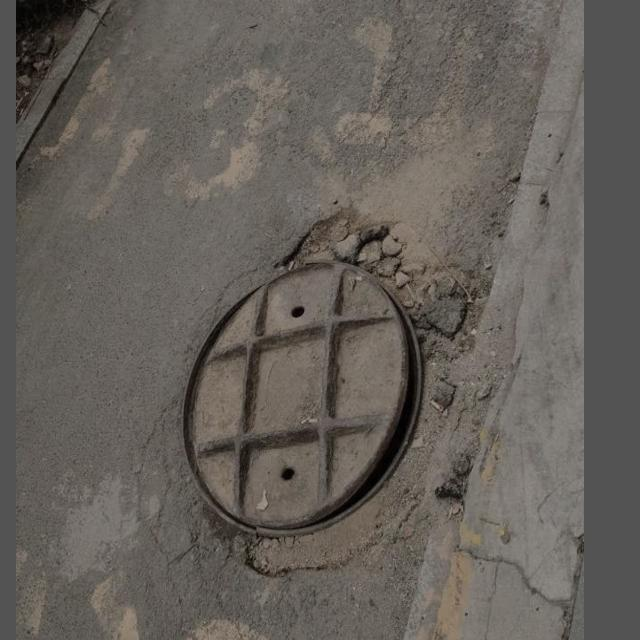circle: (143, 202, 520, 600)
